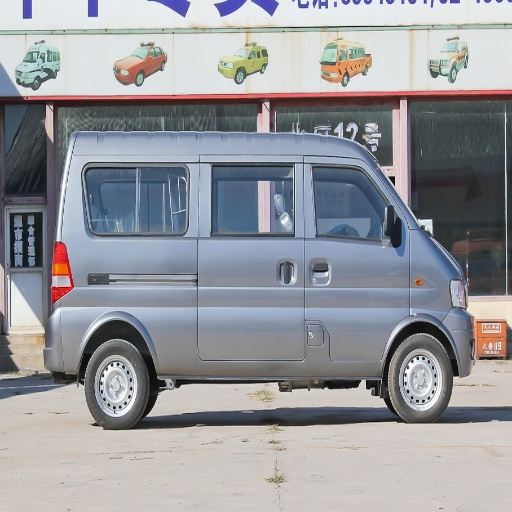back_right_door: (223, 155, 300, 306), (86, 165, 154, 241)
tailgate: (93, 30, 165, 83)
trunk: (56, 244, 251, 371)
